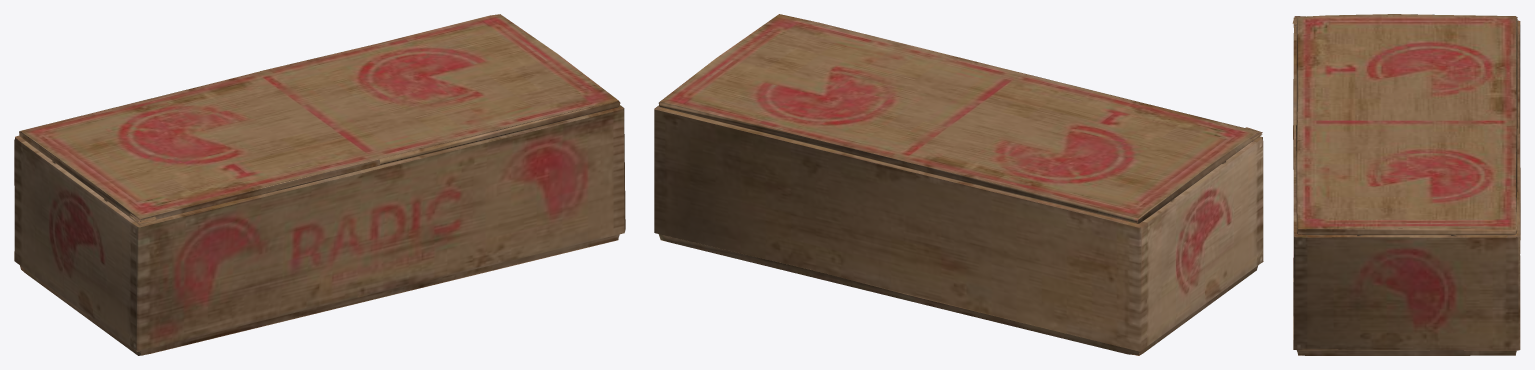
File: ph_CheeseBox_01.glb
3 views of the same model, side by side, from view 1: azimuth 30°, elevation 25°; view 2: azimuth 150°, elevation 25°; view 3: azimuth 270°, elevation 25° (orthographic). The views are drawn at different scales.
Visible parts, largest first — view 1: CheeseBox_01; view 2: CheeseBox_01; view 3: CheeseBox_01.
Boxes of the visible parts, x1,y1,x2,y2 form: CheeseBox_01: [14, 14, 625, 355]; CheeseBox_01: [654, 14, 1263, 355]; CheeseBox_01: [1292, 14, 1520, 355].
Size of the model in its own units: 0.2403 by 0.066 by 0.1065.
Materials: 1 (1 with a texture image).
